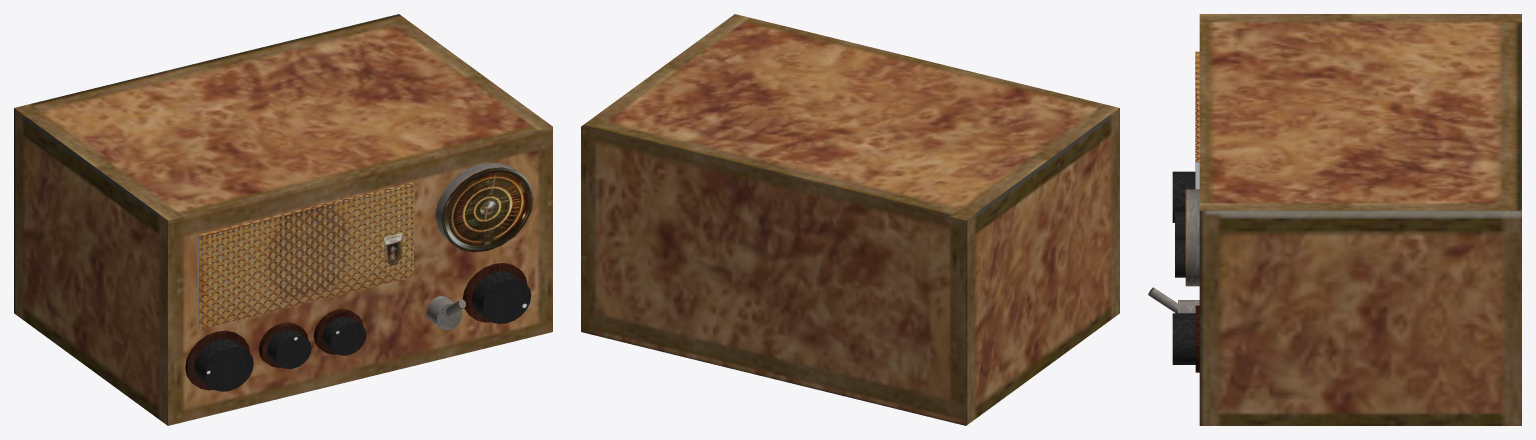
Rendered from RadioFBX.fbx.
3 renders of one model, left to right at view 1: azimuth 30°, elevation 25°; view 2: azimuth 150°, elevation 25°; view 3: azimuth 270°, elevation 25°, orthographic. The views are drawn at different scales.
Visible parts, largest first — view 1: pCube1, pCube2, pasted__pCylinder6, pasted__pCylinder2 (×2), pasted__pCylinder7 (×2), pasted__pCylinder11, pasted__pCylinder8, pasted__pCylinder4, pasted__pCylinder9, pasted__pCylinder10; view 2: pCube1; view 3: pCube1, pasted__pCylinder2 (×2), pasted__pCylinder6, pCube2, pasted__pCylinder11.
Part boxes in pixels (<box>): pCube1: <box>14,14,552,425</box>; pCube2: <box>197,182,413,329</box>; pasted__pCylinder6: <box>435,162,533,252</box>; pasted__pCylinder2 (×2): <box>194,271,531,391</box>; pasted__pCylinder7 (×2): <box>185,263,527,390</box>; pasted__pCylinder11: <box>322,316,366,355</box>; pasted__pCylinder8: <box>267,330,311,369</box>; pasted__pCylinder4: <box>426,296,462,330</box>; pasted__pCylinder9: <box>258,322,308,367</box>; pasted__pCylinder10: <box>313,309,362,354</box>; pCube1: <box>581,14,1119,425</box>; pCube1: <box>1199,14,1521,425</box>; pasted__pCylinder2 (×2): <box>1172,171,1195,364</box>; pasted__pCylinder6: <box>1185,189,1199,286</box>; pCube2: <box>1195,51,1199,189</box>; pasted__pCylinder11: <box>1175,239,1185,277</box>.
Bounding box in the file's own units: 8.25 × 4.22 × 6.62.
1 material, 1 textured.
